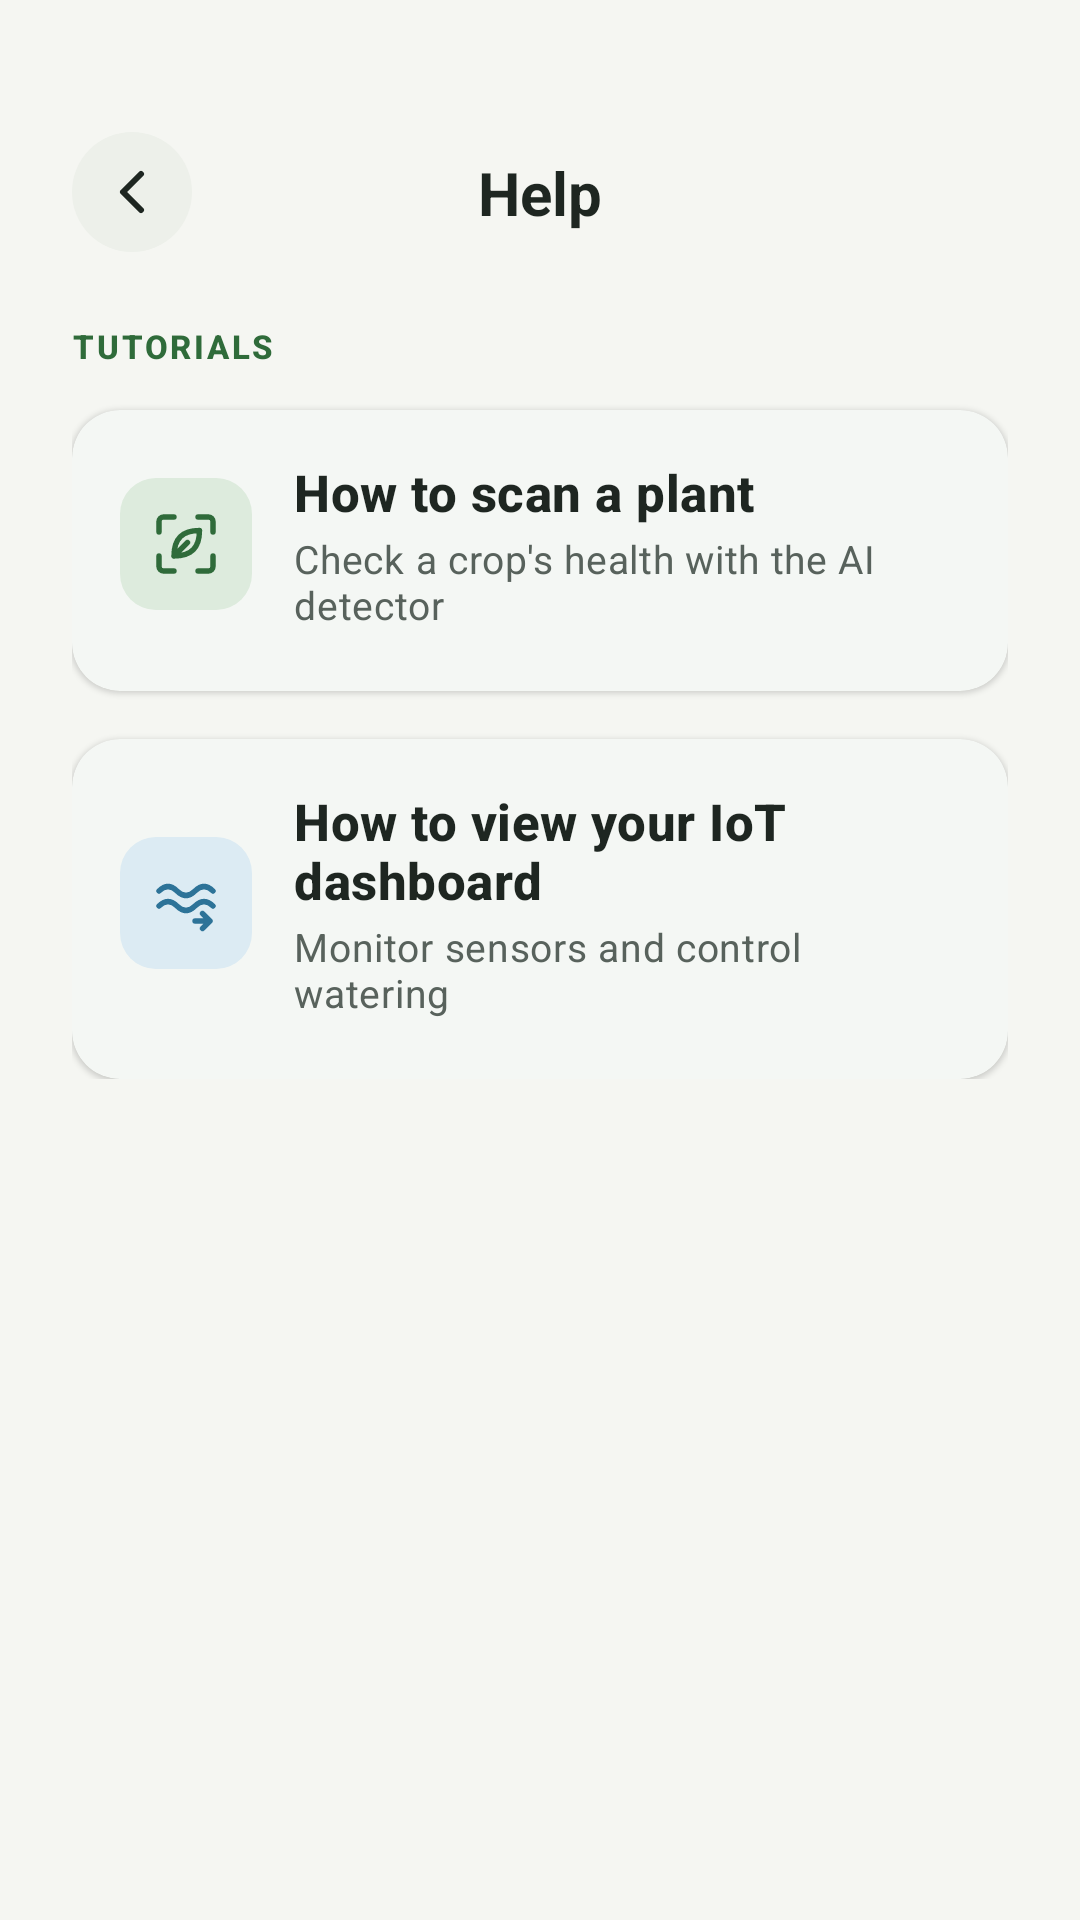

Point at icon controls on the screen. Image size 1080px×1920px, points as [x,y].
Back: [132,192]
flow rate: [186,903]
leaf scan: [186,544]
